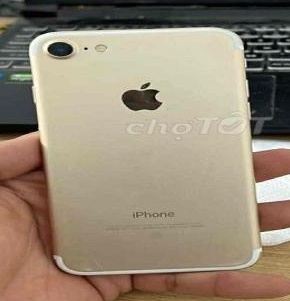scratch: (82, 253, 103, 271)
